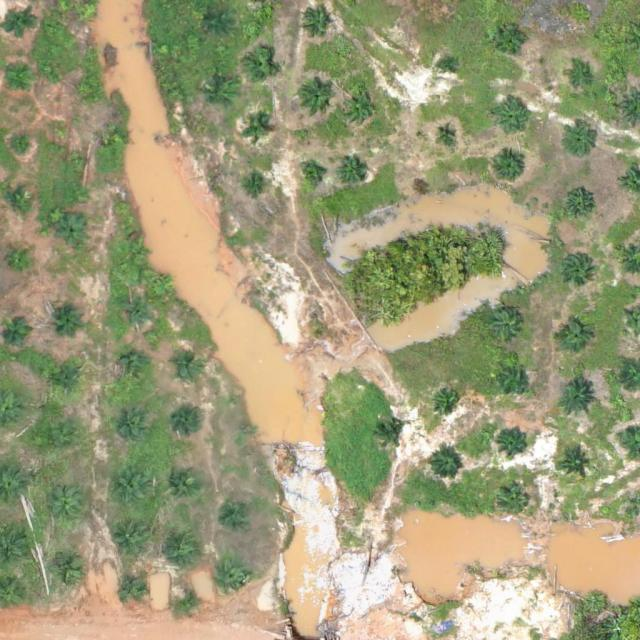Small: (110, 469, 150, 509), (40, 423, 79, 463), (112, 408, 151, 448), (165, 529, 204, 569), (165, 463, 204, 503), (490, 149, 529, 189), (340, 89, 379, 129), (46, 490, 85, 529), (49, 551, 88, 590), (111, 520, 150, 559), (558, 381, 597, 420), (492, 98, 531, 137), (299, 78, 338, 117), (120, 573, 151, 605), (173, 586, 204, 618), (558, 322, 589, 354), (565, 126, 596, 158), (492, 312, 523, 344), (499, 364, 530, 396), (499, 426, 530, 458), (561, 450, 592, 482), (563, 189, 594, 221), (496, 24, 527, 56), (2, 185, 33, 217), (175, 408, 206, 439), (55, 303, 86, 334), (3, 318, 34, 349), (121, 300, 152, 331), (58, 218, 89, 249), (119, 353, 150, 384), (173, 352, 204, 383), (561, 253, 592, 284), (431, 451, 462, 482), (218, 565, 249, 596), (224, 500, 255, 531), (500, 489, 531, 520), (433, 386, 464, 417), (376, 421, 407, 452), (53, 368, 84, 399), (246, 51, 277, 82), (301, 10, 332, 41), (339, 157, 370, 188), (5, 10, 36, 41), (3, 66, 34, 97), (207, 83, 238, 114), (567, 67, 591, 91), (126, 241, 150, 265), (9, 248, 33, 272), (245, 117, 269, 141), (245, 174, 269, 198), (300, 163, 324, 187), (66, 149, 90, 173), (72, 78, 96, 102), (437, 124, 460, 148), (106, 125, 129, 149), (208, 12, 231, 36), (10, 137, 33, 160), (440, 59, 456, 75)
